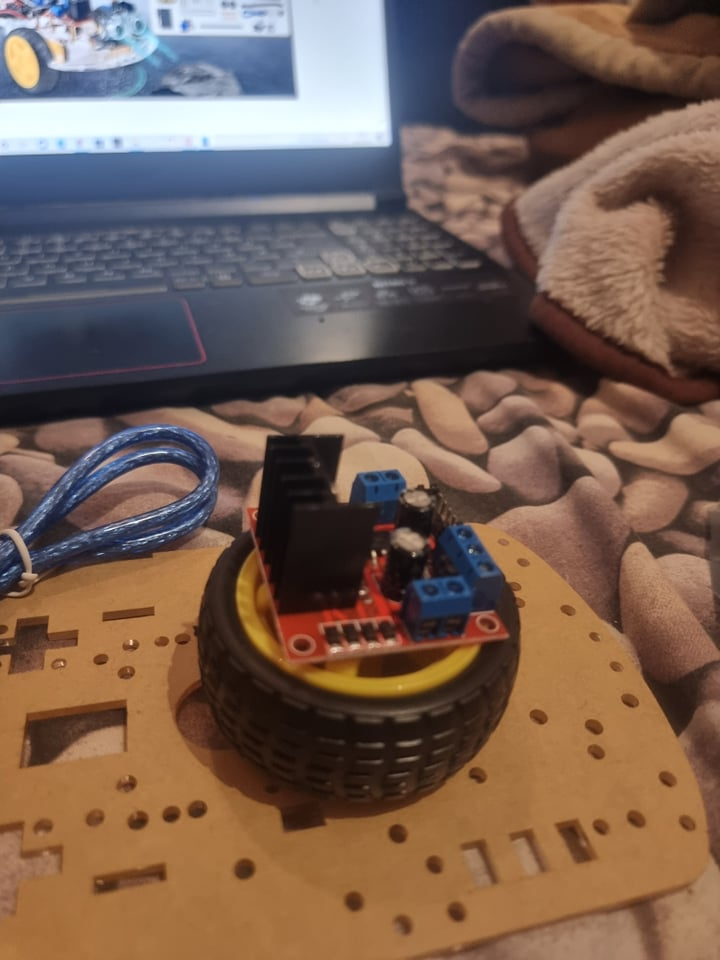MOTOR: (241, 432, 508, 665)
